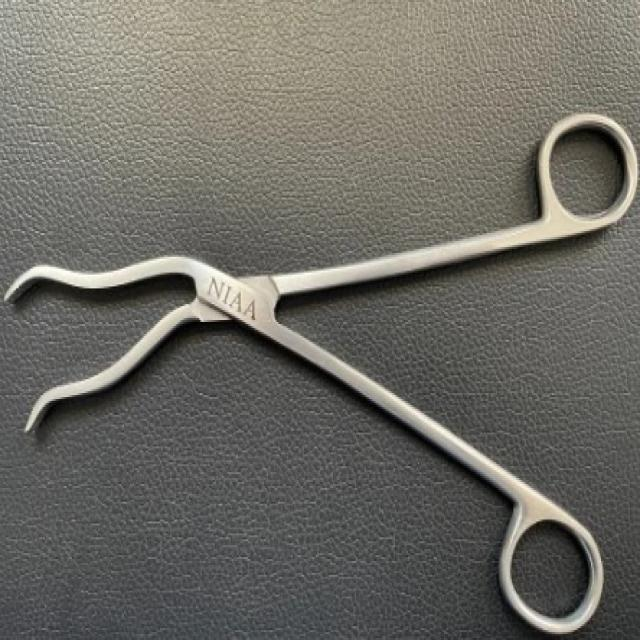Cheatle Forceps: (1, 104, 639, 640)
